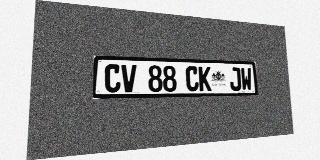8: (148, 65, 163, 92), (163, 65, 177, 92)
C: (104, 64, 121, 93), (186, 66, 199, 91)
J: (229, 67, 241, 91)
K: (198, 66, 211, 91)
V: (121, 64, 137, 92)
W: (240, 67, 252, 91)
